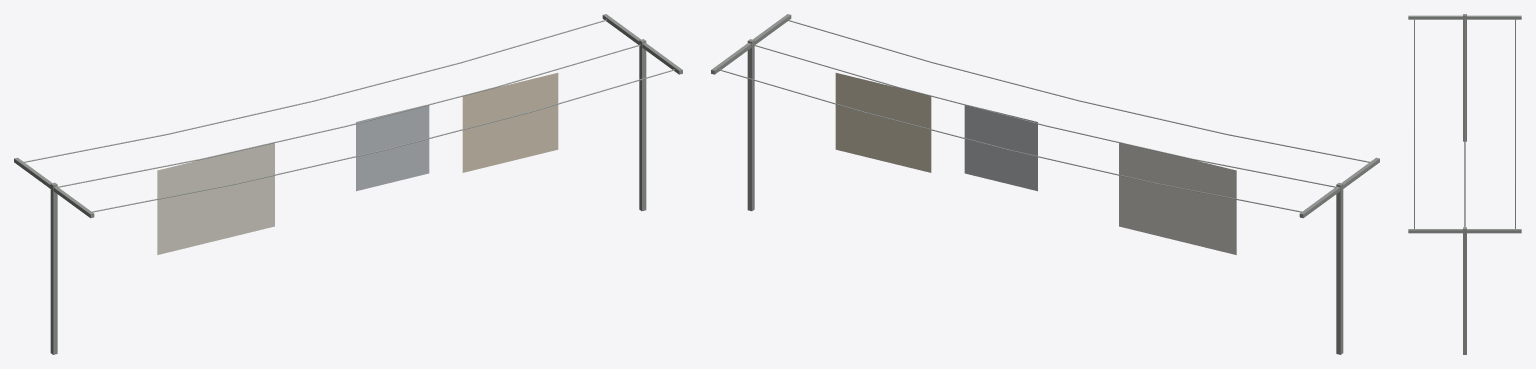
File: toaster_clothesline.glb
3 views of the same model, side by side, from view 1: azimuth 30°, elevation 25°; view 2: azimuth 150°, elevation 25°; view 3: azimuth 270°, elevation 25° (orthographic). The views are drawn at different scales.
Visible parts, largest first — view 1: toaster_clothesline_washing, toaster_clothesline_posts, toaster_clothesline_lines; view 2: toaster_clothesline_washing, toaster_clothesline_posts, toaster_clothesline_lines; view 3: toaster_clothesline_posts, toaster_clothesline_lines.
Boxes of the visible parts, box(x1,y1,x2,y2) form: toaster_clothesline_washing: box(157, 73, 558, 254); toaster_clothesline_posts: box(14, 14, 682, 354); toaster_clothesline_lines: box(24, 19, 674, 212); toaster_clothesline_washing: box(835, 73, 1236, 254); toaster_clothesline_posts: box(711, 14, 1379, 354); toaster_clothesline_lines: box(719, 19, 1369, 212); toaster_clothesline_posts: box(1408, 14, 1521, 354); toaster_clothesline_lines: box(1414, 18, 1515, 228).
Bounding box in the file's own units: 8.06 × 2.2 × 1.8.
